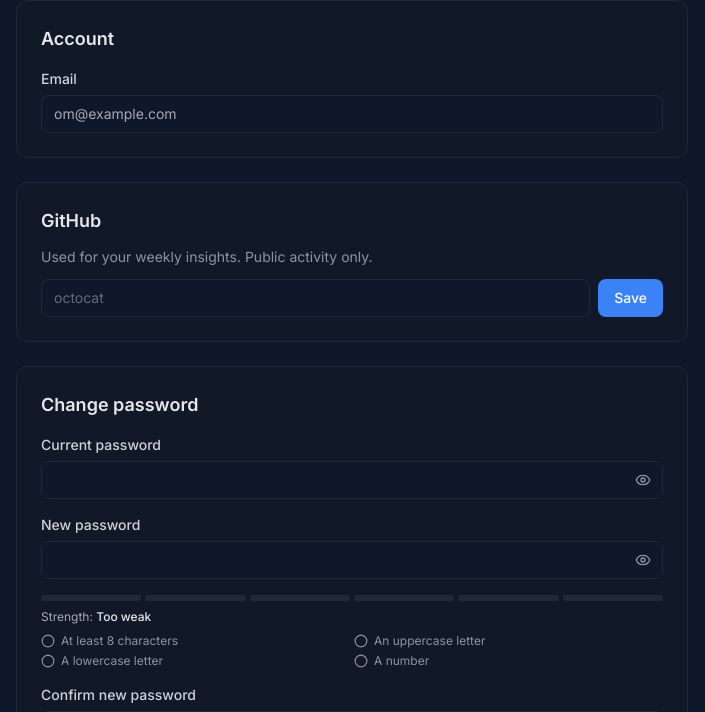
SettingsPage › won't submit when the confirmation doesn't match
Type "Correct-Horse-9" into the password field labelled "Current password" at (352, 480), box [41,461,663,499]
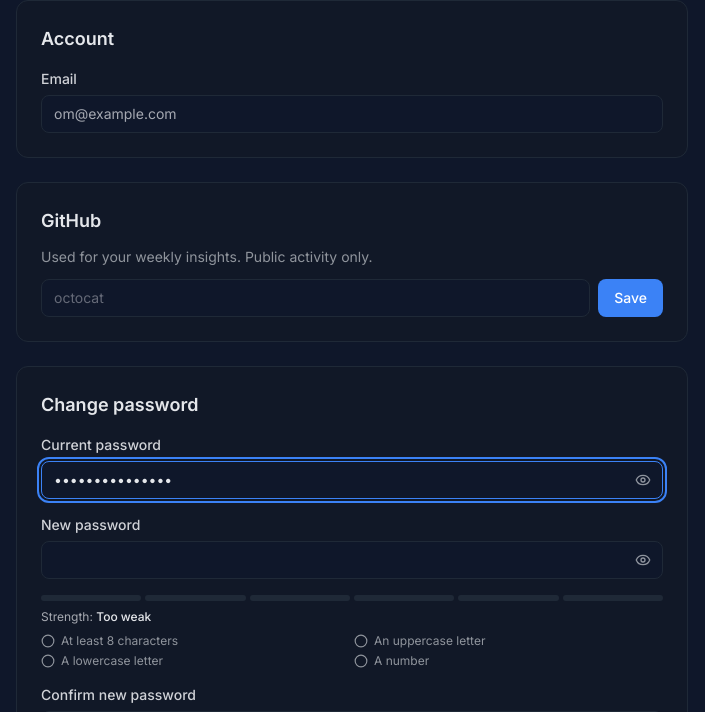
Type "Brand-New-Pass-7" into the password field labelled "New password" at (352, 560), box [41,541,663,579]
(page scrolled)
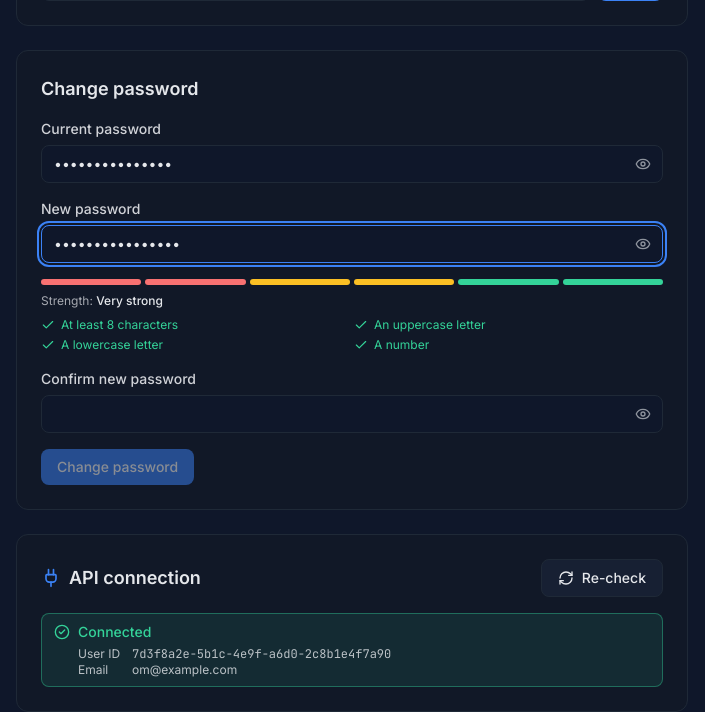
Type "Brand-New-Pass-8" into the password field labelled "Confirm new password" at (352, 414), box [41,395,663,433]
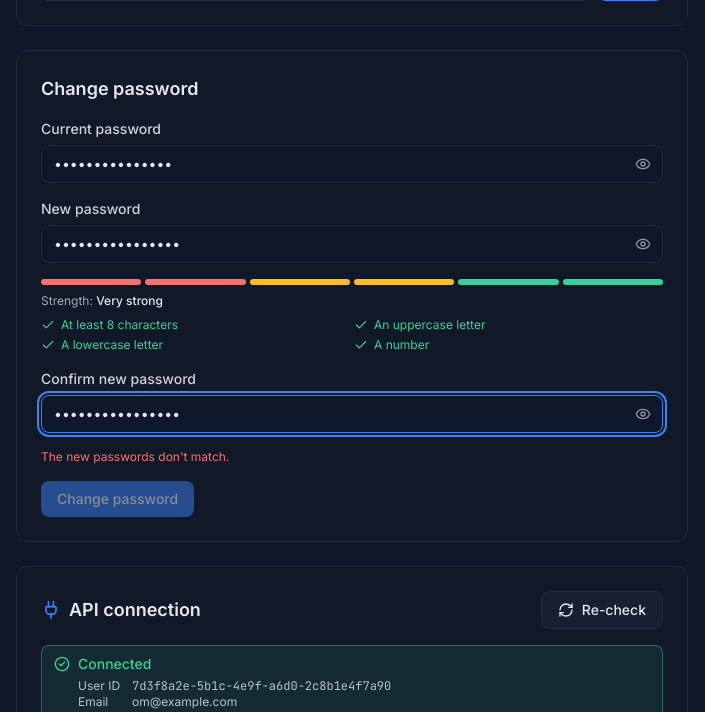
Expected: the button "Change password" is disabled, [41,481,194,517]
Result: the text "The new passwords don't match." is shown at [41,449,229,464]
